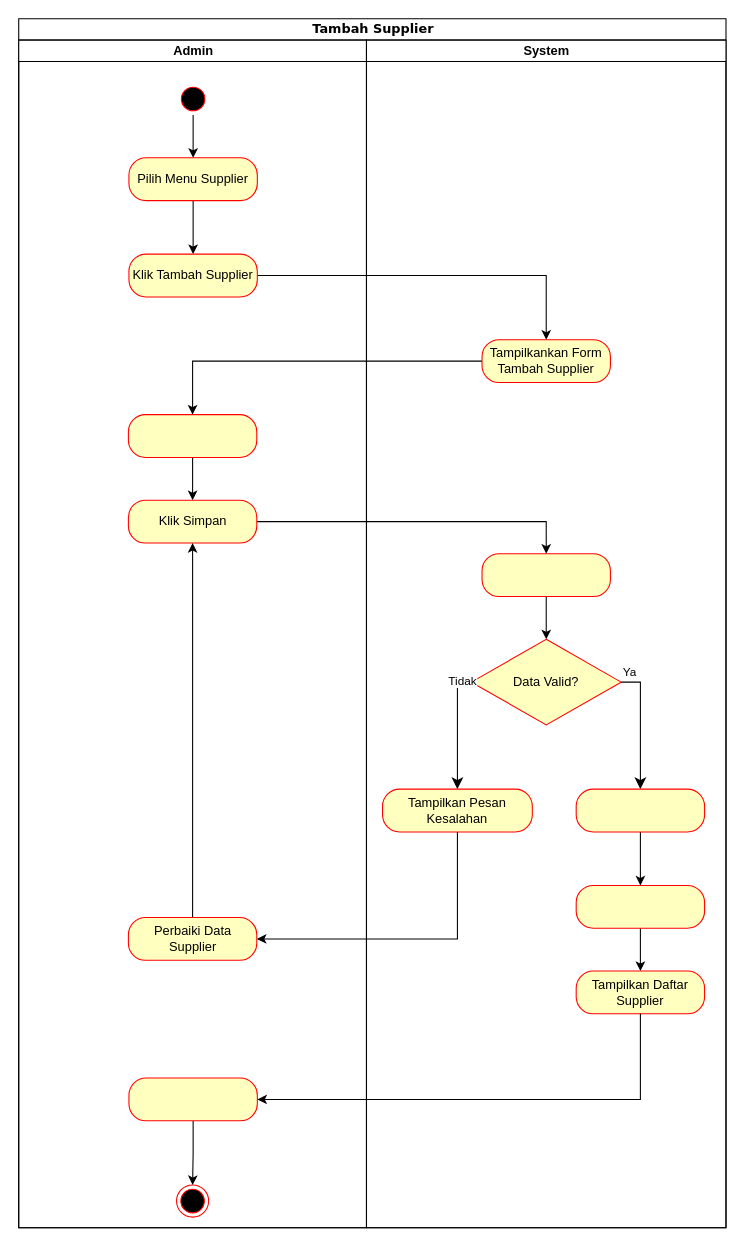
Some shapes in this 745 by 1247 pixel diagram are drawn without their labels. The shapes that lost their labels are listed below. From the top down, each one's centre as x and y in pixels, then its label:
At (x=192, y=435): "Isi Data Supplier".
At (x=545, y=575): "Validasi Data".
At (x=640, y=810): "Simpan Data Supplier".
At (x=640, y=906): "Tampilkan Pesan Berhasil".
At (x=192, y=1099): "Melihat Daftar Supplier".
